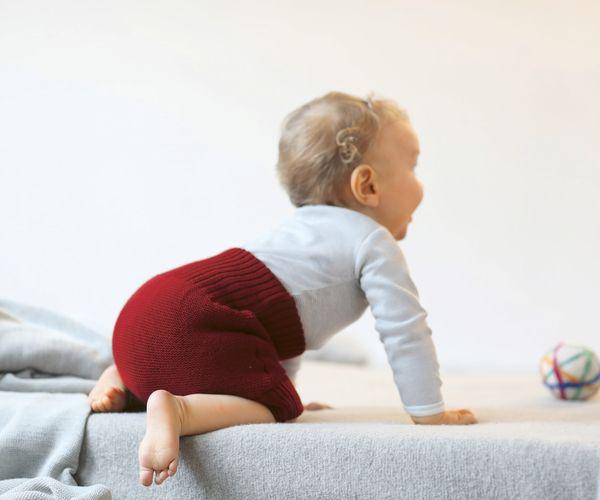child: (54, 69, 500, 482)
